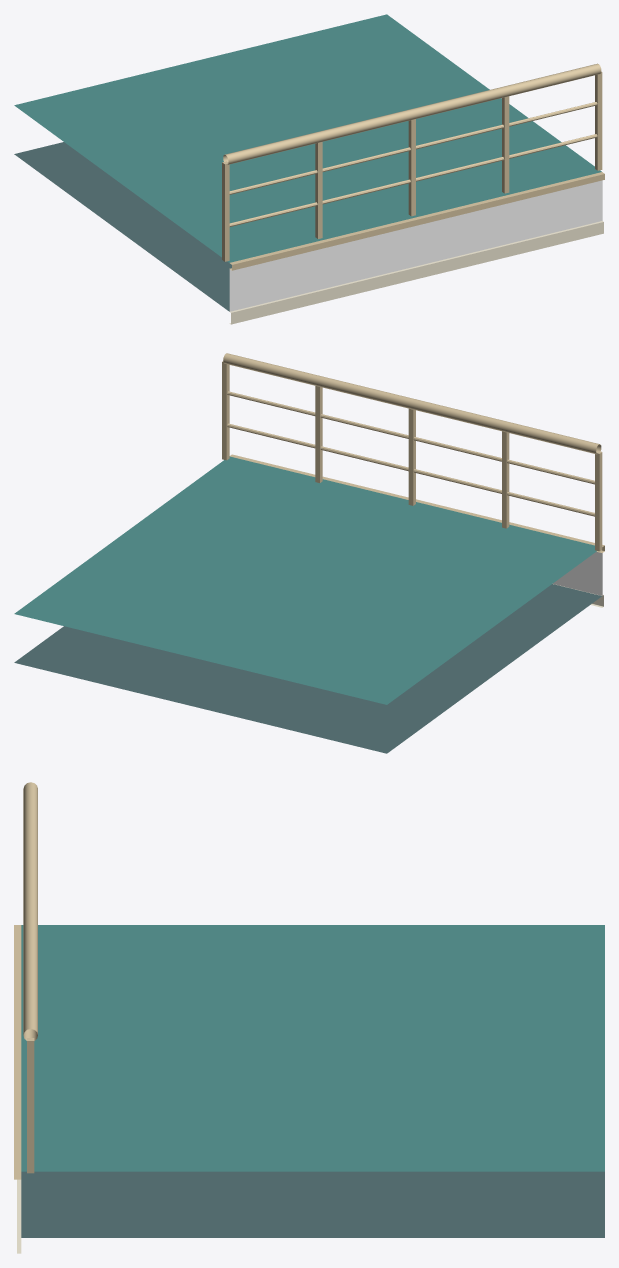
File: KC32__AD_Arc_Mezzanine_Rail_Violet.glb
The picture shows the model from 3 angles, top to bottom: view 1: azimuth 30°, elevation 25°; view 2: azimuth 150°, elevation 25°; view 3: azimuth 270°, elevation 25°; orthographic projection. The views are drawn at different scales.
Parts seen in each view (by area): view 1: KC32_CORPS__AD_Arc_Mezzanine_Rail_Violet, KC32_ACCENT__AD_Arc_Mezzanine_Rail_Violet, KC32_BRONZE__AD_Arc_Mezzanine_Rail_Violet, KC32_LUMIERE__AD_Arc_Mezzanine_Rail_Violet; view 2: KC32_CORPS__AD_Arc_Mezzanine_Rail_Violet, KC32_BRONZE__AD_Arc_Mezzanine_Rail_Violet, KC32_ACCENT__AD_Arc_Mezzanine_Rail_Violet; view 3: KC32_CORPS__AD_Arc_Mezzanine_Rail_Violet, KC32_BRONZE__AD_Arc_Mezzanine_Rail_Violet.
Part boxes in pixels (bbox=[...]): KC32_CORPS__AD_Arc_Mezzanine_Rail_Violet: bbox=[14, 14, 601, 311]; KC32_ACCENT__AD_Arc_Mezzanine_Rail_Violet: bbox=[229, 180, 602, 311]; KC32_BRONZE__AD_Arc_Mezzanine_Rail_Violet: bbox=[222, 63, 604, 270]; KC32_LUMIERE__AD_Arc_Mezzanine_Rail_Violet: bbox=[229, 221, 603, 324]; KC32_CORPS__AD_Arc_Mezzanine_Rail_Violet: bbox=[14, 456, 601, 753]; KC32_BRONZE__AD_Arc_Mezzanine_Rail_Violet: bbox=[222, 353, 604, 552]; KC32_ACCENT__AD_Arc_Mezzanine_Rail_Violet: bbox=[553, 552, 602, 595]; KC32_CORPS__AD_Arc_Mezzanine_Rail_Violet: bbox=[21, 925, 604, 1237]; KC32_BRONZE__AD_Arc_Mezzanine_Rail_Violet: bbox=[14, 782, 37, 1179].
Bounding box in the file's own units: 4.05 × 1.7 × 4.05.
